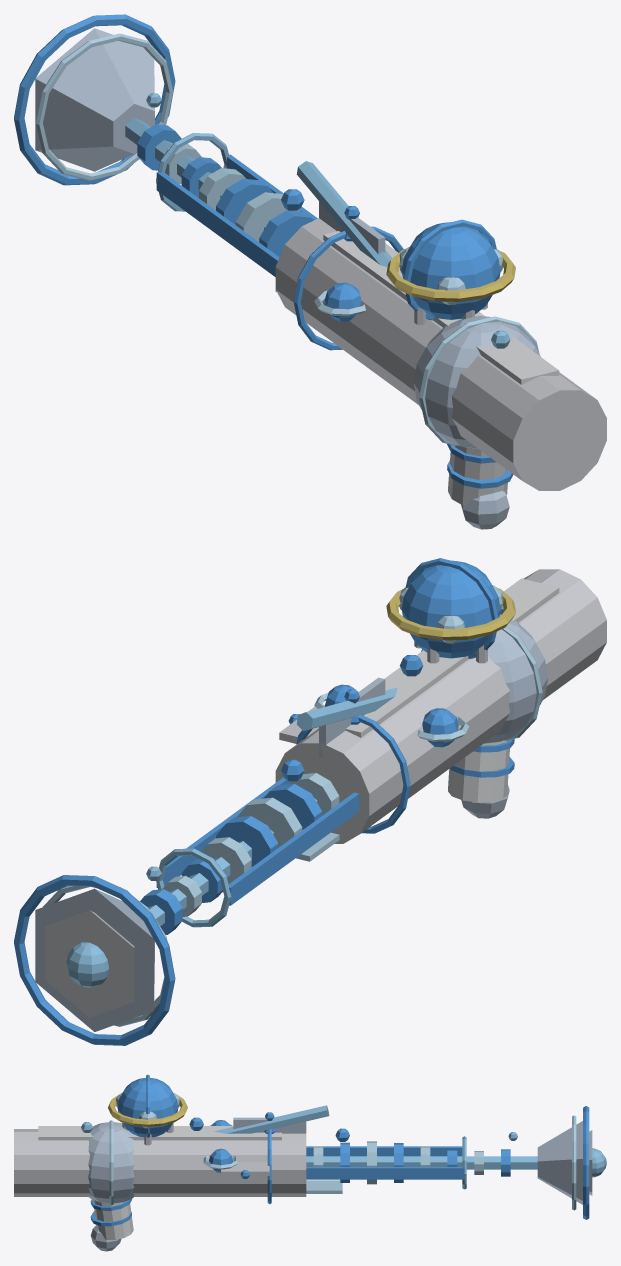
Rendered from liberty.glb.
3 renders of one model, top to bottom at view 1: azimuth 30°, elevation 25°; view 2: azimuth 150°, elevation 25°; view 3: azimuth 270°, elevation 25°, orthographic. The views are drawn at different scales.
Visible parts, largest first — view 1: liberty; view 2: liberty; view 3: liberty.
Part boxes in pixels (bbox=[...]): liberty: bbox=[14, 14, 606, 529]; liberty: bbox=[14, 558, 606, 1045]; liberty: bbox=[14, 1074, 606, 1251].
Bounding box in the file's own units: 0.0945 × 0.1563 × 0.487.
